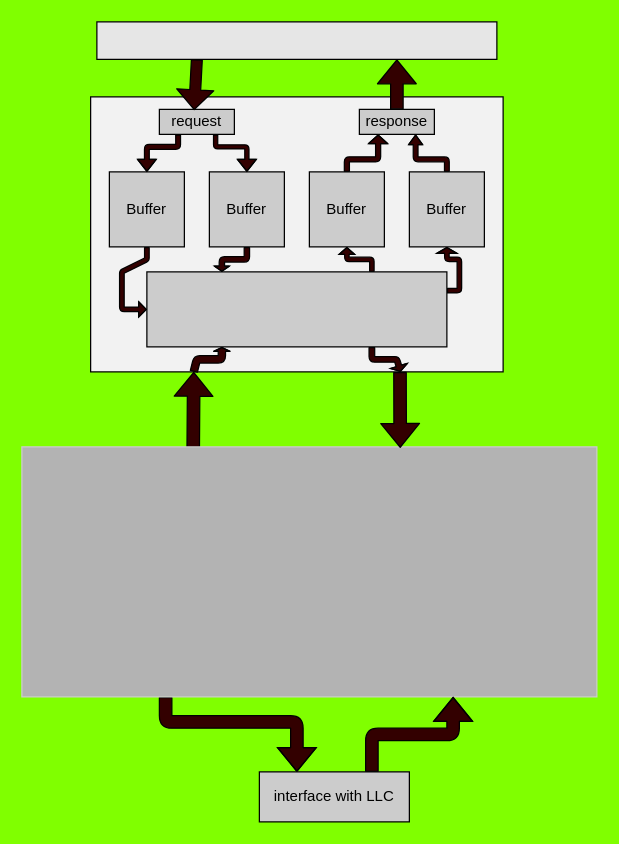
Image size: 619x844. Some labels were removed from this diagram. Here are the shapes that lost their labels. From the top down, the box of each, then its label:
(96, 21, 497, 59): interface to L1 cache I and D
(146, 271, 447, 347): Arbiter
(21, 446, 597, 697): L2 cache memory
